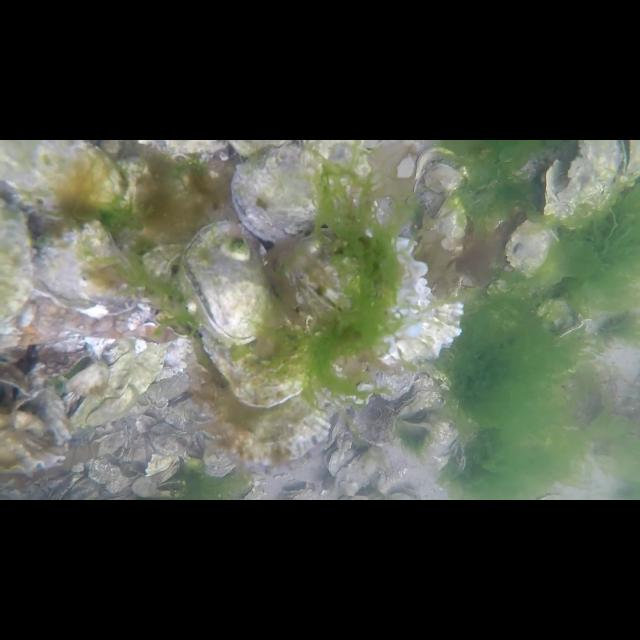Oyster-Closed: (283, 232, 462, 364), (197, 296, 321, 408), (208, 358, 332, 464), (26, 220, 140, 320), (0, 140, 124, 208), (72, 344, 166, 424), (544, 140, 622, 218), (412, 146, 468, 206), (0, 430, 66, 474), (429, 187, 471, 255), (348, 393, 399, 447), (506, 220, 554, 272), (336, 446, 382, 496), (374, 358, 416, 402), (203, 436, 239, 478), (322, 406, 348, 450)
Oyster-Open: (230, 140, 370, 244), (182, 220, 272, 344), (322, 444, 356, 474), (618, 140, 640, 184), (395, 391, 427, 417), (395, 413, 431, 431)
